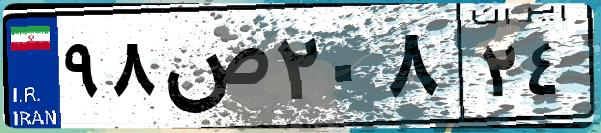0: (330, 28, 385, 110)
2: (270, 28, 330, 110), (475, 38, 525, 113)
4: (525, 38, 570, 115)
8: (385, 28, 445, 110), (110, 28, 158, 98)
9: (57, 26, 110, 100)
ص: (158, 20, 270, 120)
